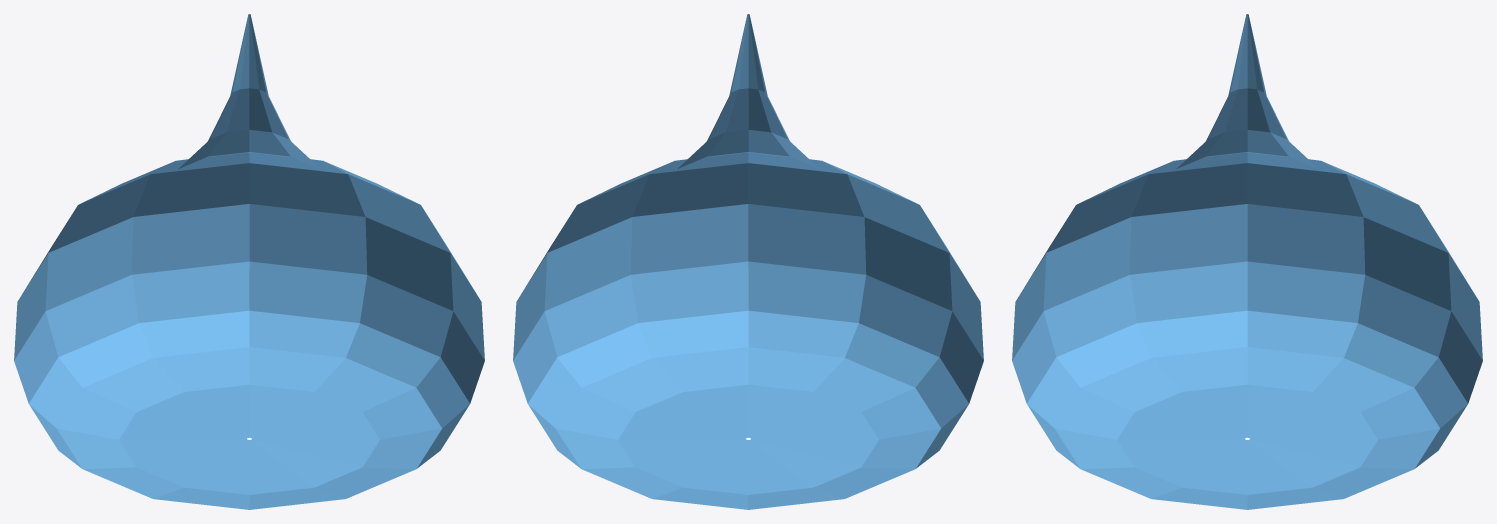
File: drop_from_obj.gltf
The picture shows the model from 3 angles, left to right: view 1: azimuth 30°, elevation 25°; view 2: azimuth 150°, elevation 25°; view 3: azimuth 270°, elevation 25°; orthographic projection.
Bounding box in the file's own units: 0.5395 × 0.5376 × 0.5395.
